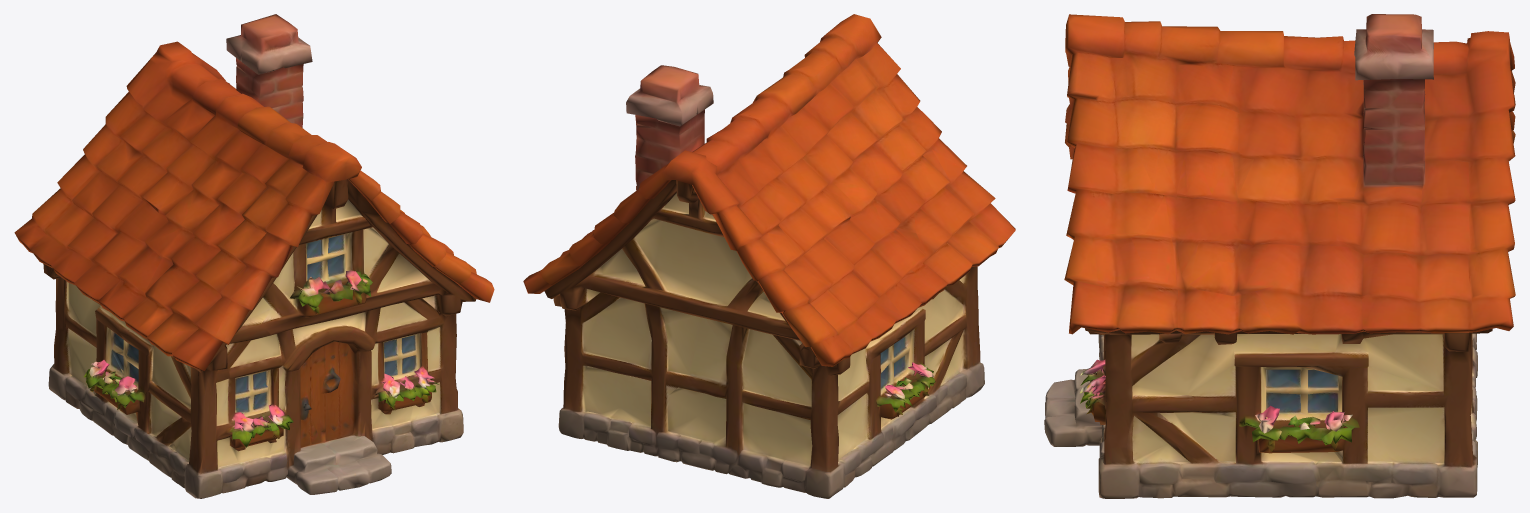
File: house.glb
3 renders of one model, left to right at view 1: azimuth 30°, elevation 25°; view 2: azimuth 150°, elevation 25°; view 3: azimuth 270°, elevation 25°, orthographic. The views are drawn at different scales.
Parts seen in each view (by area): view 1: tripo_node_6ed10e8a-983d-401c-a0e2-681106ce2f5e; view 2: tripo_node_6ed10e8a-983d-401c-a0e2-681106ce2f5e; view 3: tripo_node_6ed10e8a-983d-401c-a0e2-681106ce2f5e.
Part boxes in pixels (x1=…): tripo_node_6ed10e8a-983d-401c-a0e2-681106ce2f5e: x1=14, y1=14, x2=494, y2=498; tripo_node_6ed10e8a-983d-401c-a0e2-681106ce2f5e: x1=523, y1=14, x2=1015, y2=498; tripo_node_6ed10e8a-983d-401c-a0e2-681106ce2f5e: x1=1044, y1=14, x2=1515, y2=498.
Bounding box in the file's own units: 0.923 × 0.9805 × 0.958.
1 material, 1 textured.
